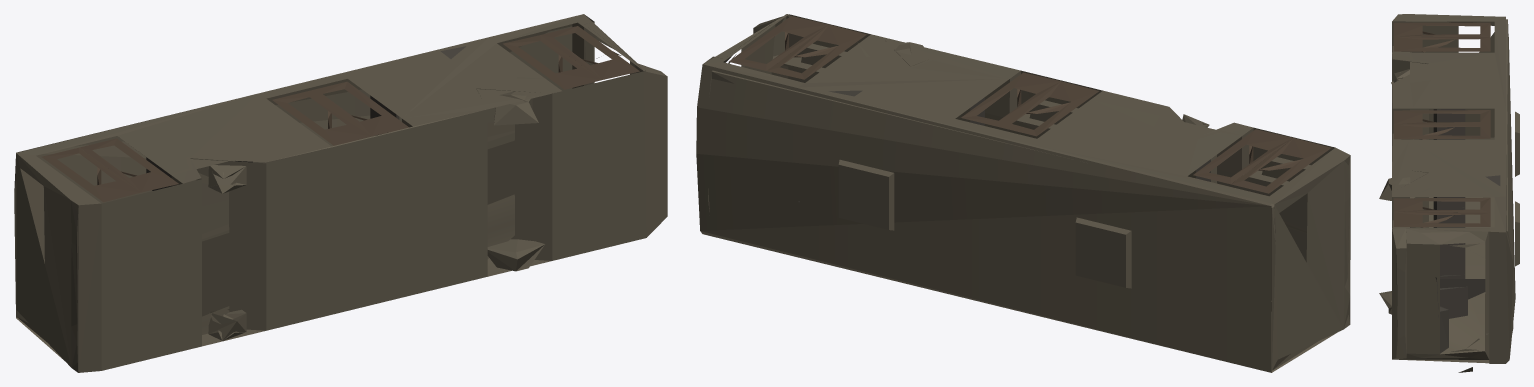
Rendered from wreck-bus.lod1.glb.
The picture shows the model from 3 angles, left to right: view 1: azimuth 30°, elevation 25°; view 2: azimuth 150°, elevation 25°; view 3: azimuth 270°, elevation 25°; orthographic projection. The views are drawn at different scales.
Visible parts, largest first — view 1: Object_20; view 2: Object_20; view 3: Object_20.
Part boxes in pixels (x1,y1,x2,y2): Object_20: [14, 14, 667, 372]; Object_20: [696, 14, 1350, 372]; Object_20: [1379, 14, 1519, 372].
Bounding box in the file's own units: 11 × 3.24 × 2.92.
